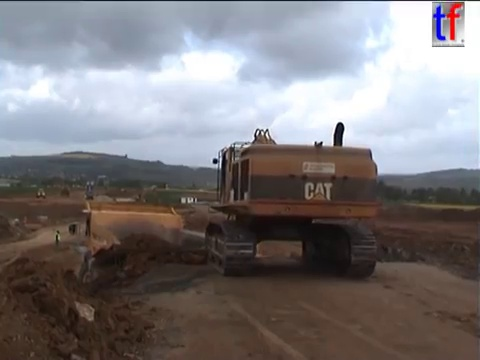excavator: (201, 119, 382, 280)
truck: (66, 199, 233, 294), (107, 200, 186, 240), (59, 185, 71, 197), (35, 187, 45, 198)
worker: (53, 227, 62, 253)
